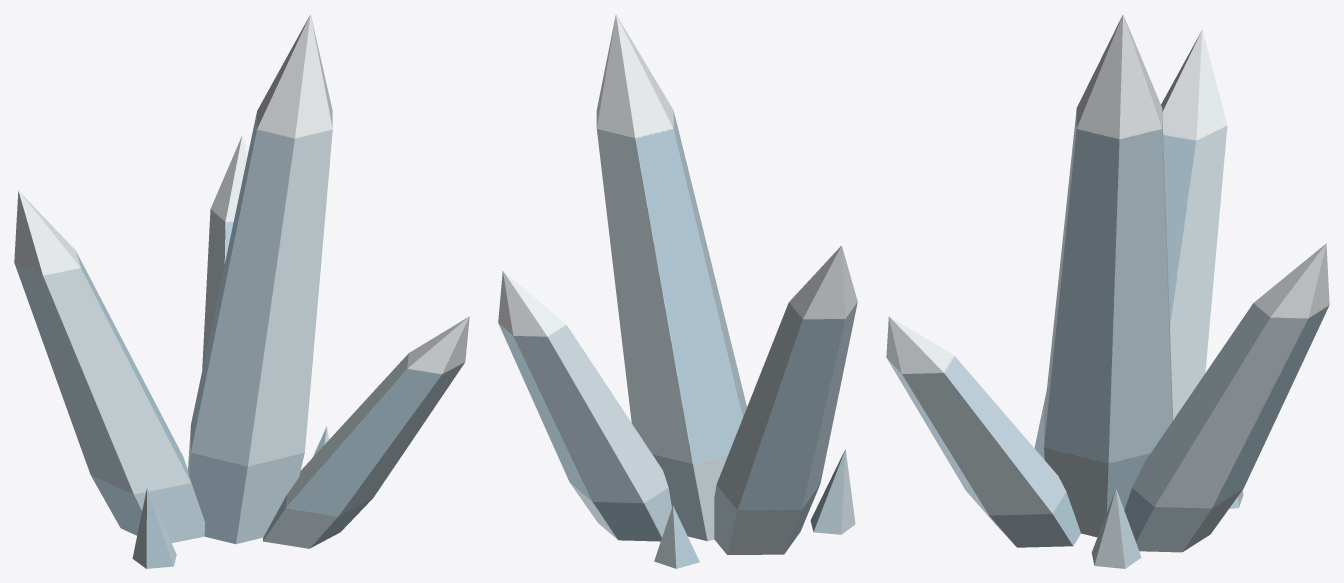
Rendered from IceSpike.fbx.
3 renders of one model, left to right at view 1: azimuth 30°, elevation 25°; view 2: azimuth 150°, elevation 25°; view 3: azimuth 270°, elevation 25°, orthographic. The views are drawn at different scales.
Visible parts, largest first — view 1: IceSpike; view 2: IceSpike; view 3: IceSpike.
Part boxes in pixels (x1,y1,x2,y2): IceSpike: (14,14,469,568); IceSpike: (498,14,857,568); IceSpike: (886,14,1329,568).
Size of the model in its own units: 139 by 200 by 148.
1 material, 1 textured.
